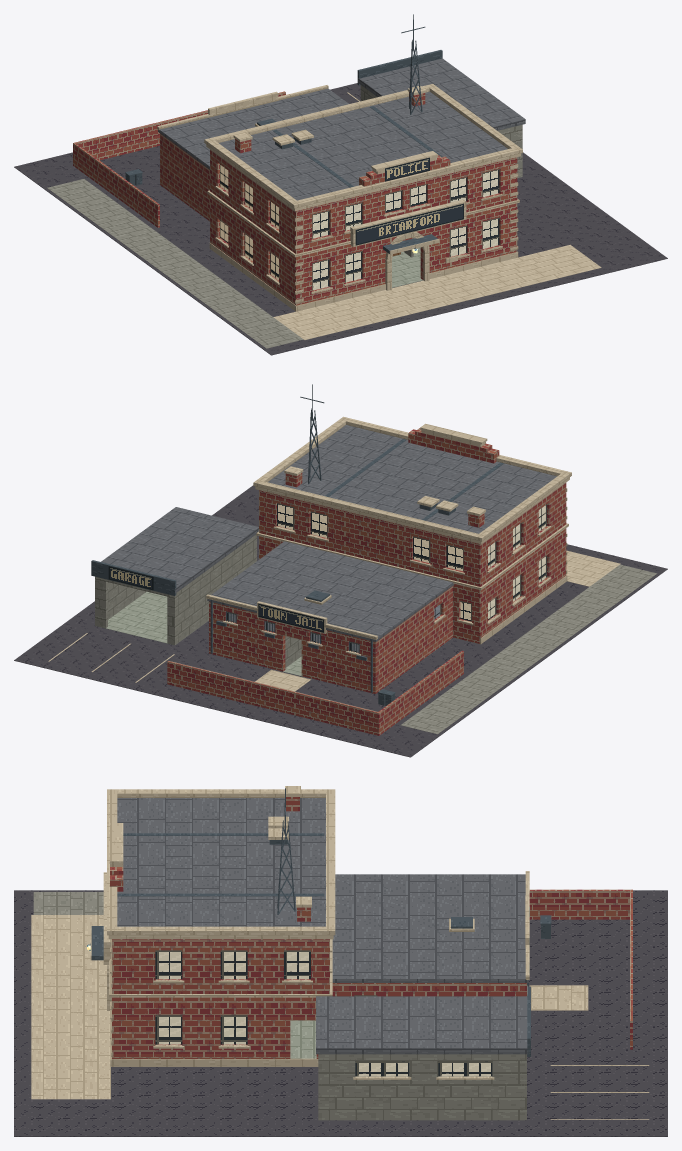
Rendered from briarford-1940.glb.
3 renders of one model, top to bottom at view 1: azimuth 30°, elevation 25°; view 2: azimuth 150°, elevation 25°; view 3: azimuth 270°, elevation 25°, orthographic. The views are drawn at different scales.
Parts seen in each view (by area): view 1: shell, lot, yard_fence, sign_name, interior, radio_mast; view 2: shell, lot, yard_fence, interior, radio_mast; view 3: shell, lot, yard_fence, interior, radio_mast.
Boxes of the visible parts, x1,y1,x2,y2 form: shell: [157, 50, 525, 311]; lot: [14, 83, 667, 355]; yard_fence: [73, 91, 285, 227]; sign_name: [355, 203, 463, 245]; interior: [208, 176, 522, 287]; radio_mast: [401, 14, 425, 114]; shell: [91, 416, 571, 693]; lot: [14, 485, 667, 757]; yard_fence: [167, 650, 463, 735]; interior: [95, 591, 479, 677]; radio_mast: [300, 384, 324, 484]; shell: [87, 786, 530, 1120]; lot: [14, 890, 667, 1136]; yard_fence: [529, 889, 632, 1049]; interior: [290, 1020, 316, 1058]; radio_mast: [277, 788, 295, 914].
Size of what is drawn, in the model's own units: 26.7 by 13 by 30.
12 materials, 12 textured.
